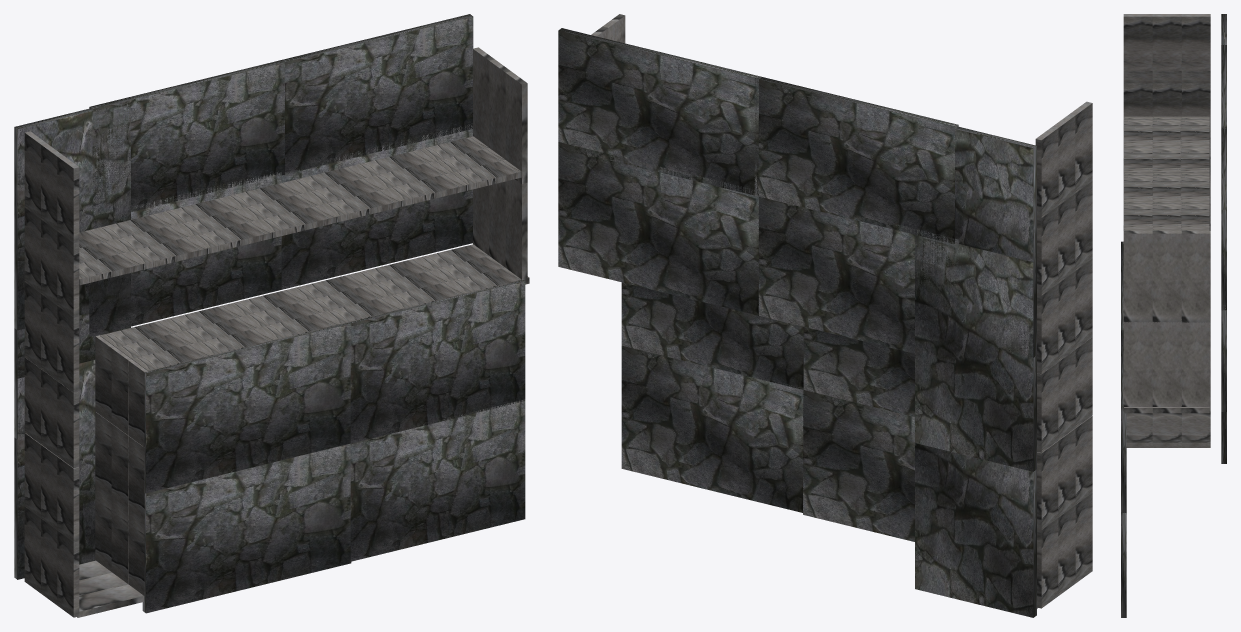
The model's file is level3.obj.
3 views of the same model, side by side, from view 1: azimuth 30°, elevation 25°; view 2: azimuth 150°, elevation 25°; view 3: azimuth 270°, elevation 25° (orthographic). The views are drawn at different scales.
Visible parts, largest first — view 1: Cube_Cube.001, Cube.003_Cube.016, Cube.008_Cube.012, Cube.004_Cube.017, Cube.005_Cube.018, Cube.010_Cube.014, Cube.001_Cube.008, Cube.002_Cube.009, Cube.011_Cube.015, Cube.007_Cube.011, Cube.005_Cube.006, Cube.005_Cube.001 (+67 smaller); view 2: Cube.001_Cube.008, Cube.006_Cube.010, Cube.010_Cube.014, Cube.008_Cube.012, Cube.005_Cube.018, Cube.002_Cube.009, Cube.007_Cube.011, Cube.003_Cube.016, Cube.004_Cube.017, Cube.011_Cube.015, Cube_Cube.001, Cube.001_Cube.017 (+16 smaller); view 3: Cube.005_Cube.004, Cube.005_Cube.005, Cube.005_Cube.006, Cube.005_Cube.001, Cube.005_Cube.002, Cube.005_Cube.003, Cube.001_Cube.018, Cube.001_Cube.016, Cube.001_Cube.017, Cube.008_Cube.012, Cube.001_Cube.014, Cube.001_Cube.013 (+28 smaller).
Part boxes in pixels (x1,y1,x2,y2): Cube_Cube.001: [77, 322, 351, 617]; Cube.003_Cube.016: [142, 443, 351, 613]; Cube.008_Cube.012: [280, 14, 473, 173]; Cube.004_Cube.017: [349, 280, 525, 443]; Cube.005_Cube.018: [350, 399, 525, 561]; Cube.010_Cube.014: [89, 60, 284, 217]; Cube.001_Cube.008: [24, 123, 472, 443]; Cube.002_Cube.009: [89, 172, 281, 422]; Cube.011_Cube.015: [14, 102, 130, 330]; Cube.007_Cube.011: [14, 360, 95, 579]; Cube.005_Cube.006: [505, 71, 527, 184]; Cube.005_Cube.001: [505, 179, 527, 283]; Cube.001_Cube.008: [558, 142, 1058, 452]; Cube.006_Cube.010: [915, 234, 1036, 471]; Cube.010_Cube.014: [754, 77, 958, 243]; Cube.008_Cube.012: [558, 28, 761, 195]; Cube.005_Cube.018: [621, 345, 803, 512]; Cube.002_Cube.009: [758, 196, 958, 353]; Cube.007_Cube.011: [915, 443, 1036, 617]; Cube.003_Cube.016: [803, 390, 914, 541]; Cube.004_Cube.017: [621, 282, 803, 389]; Cube.011_Cube.015: [915, 120, 1036, 357]; Cube_Cube.001: [803, 327, 914, 416]; Cube.001_Cube.017: [1035, 126, 1058, 218]; Cube.005_Cube.004: [1181, 231, 1210, 322]; Cube.005_Cube.005: [1152, 231, 1181, 322]; Cube.005_Cube.006: [1123, 231, 1152, 322]; Cube.005_Cube.001: [1123, 322, 1152, 410]; Cube.005_Cube.002: [1152, 322, 1181, 406]; Cube.005_Cube.003: [1181, 322, 1210, 411]; Cube.001_Cube.018: [1123, 14, 1152, 83]; Cube.001_Cube.016: [1152, 14, 1181, 83]; Cube.001_Cube.017: [1181, 14, 1210, 83]; Cube.008_Cube.012: [1221, 126, 1226, 310]; Cube.001_Cube.014: [1181, 83, 1210, 149]; Cube.001_Cube.013: [1123, 83, 1152, 149].
Size of the model in its own units: 16.13 by 15.58 by 3.64.
76 materials, 76 textured.
